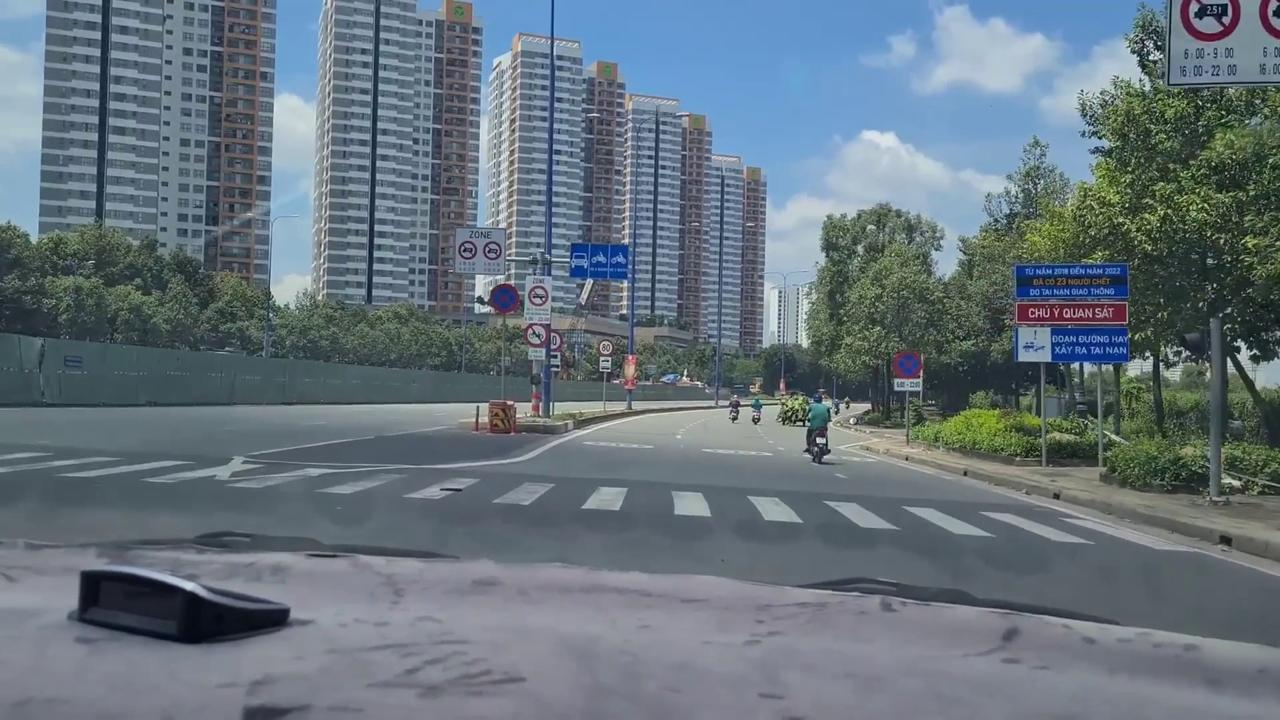Biển phụ: (893, 377, 925, 393), (599, 356, 612, 372), (528, 348, 545, 359)
Cấm cac phương tiện hoạt động trong khung giờ cố định: (454, 226, 507, 276), (524, 275, 550, 324)
Cấm dừng - Cấm đỗ: (489, 282, 520, 318), (891, 346, 923, 379)
Cấm xe máy: (524, 323, 550, 349)
Giới hạn tốc độ 80Km/h: (598, 338, 614, 355)
Khác: (1011, 261, 1130, 363)
Làn đường cho từng xe: (570, 240, 629, 282)
